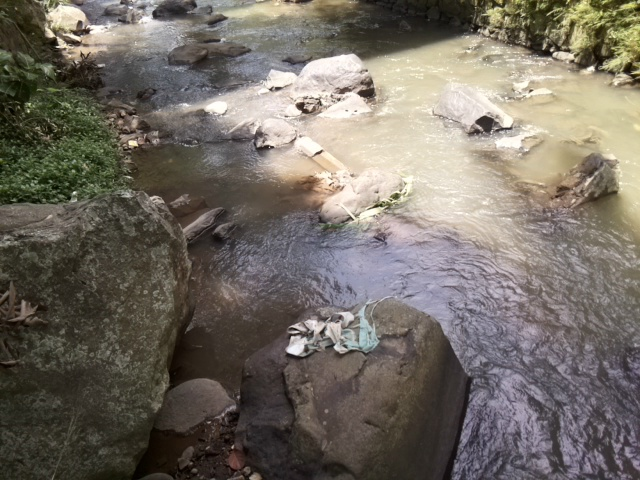Sampah_Plastik: (285, 305, 385, 359)
